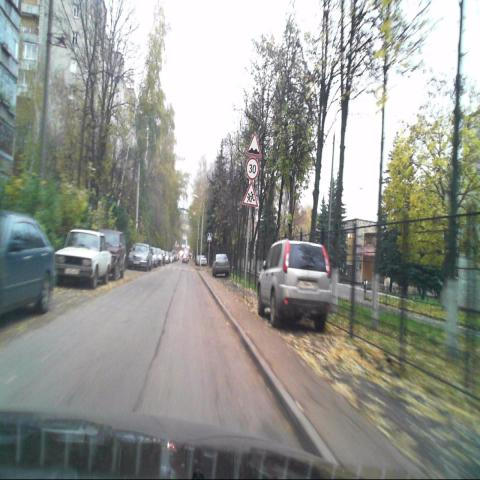1_16: (246, 132, 261, 156)
1_23: (242, 181, 258, 205)
